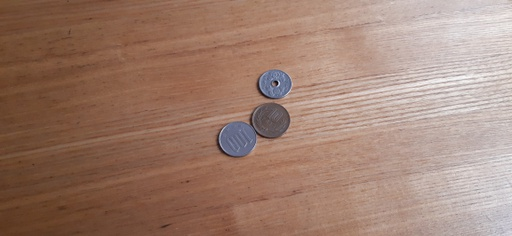100yen: (219, 122, 255, 156)
10yen: (252, 104, 290, 138)
50yen: (258, 70, 293, 99)
